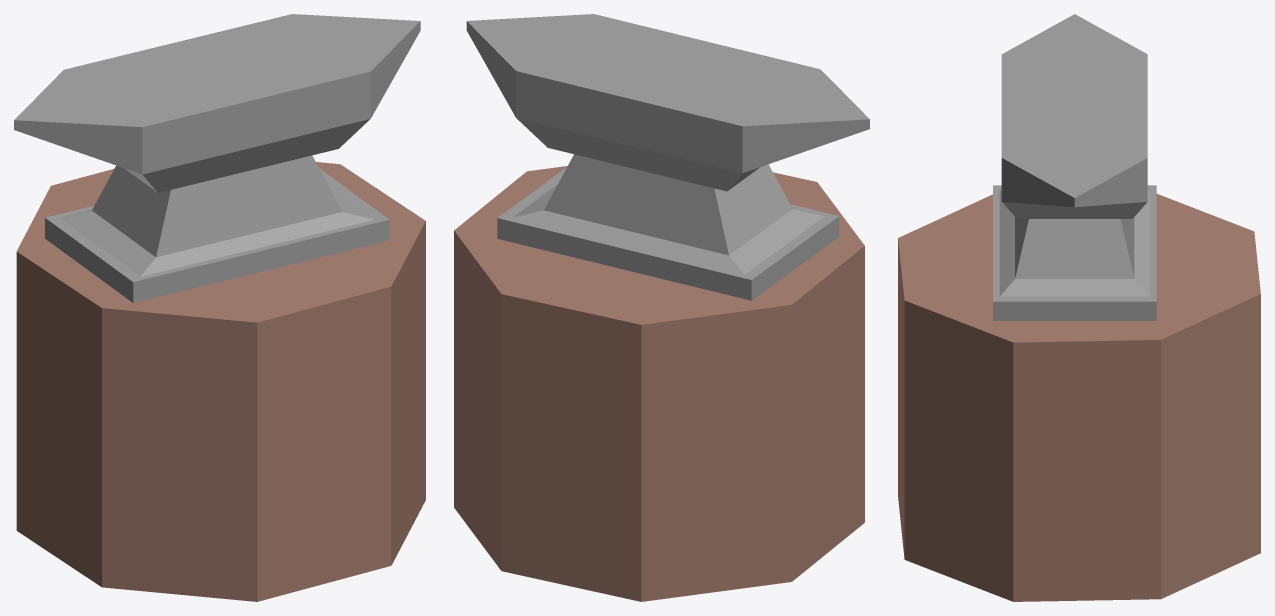
File: Anvil.fbx
3 renders of one model, left to right at view 1: azimuth 30°, elevation 25°; view 2: azimuth 150°, elevation 25°; view 3: azimuth 270°, elevation 25°, orthographic. The views are drawn at different scales.
Visible parts, largest first — view 1: Anvil; view 2: Anvil; view 3: Anvil.
Boxes of the visible parts, x1,y1,x2,y2 form: Anvil: [14, 14, 425, 601]; Anvil: [454, 14, 869, 601]; Anvil: [898, 14, 1260, 601].
Bounding box in the file's own units: 85.69 × 90.32 × 71.32.
